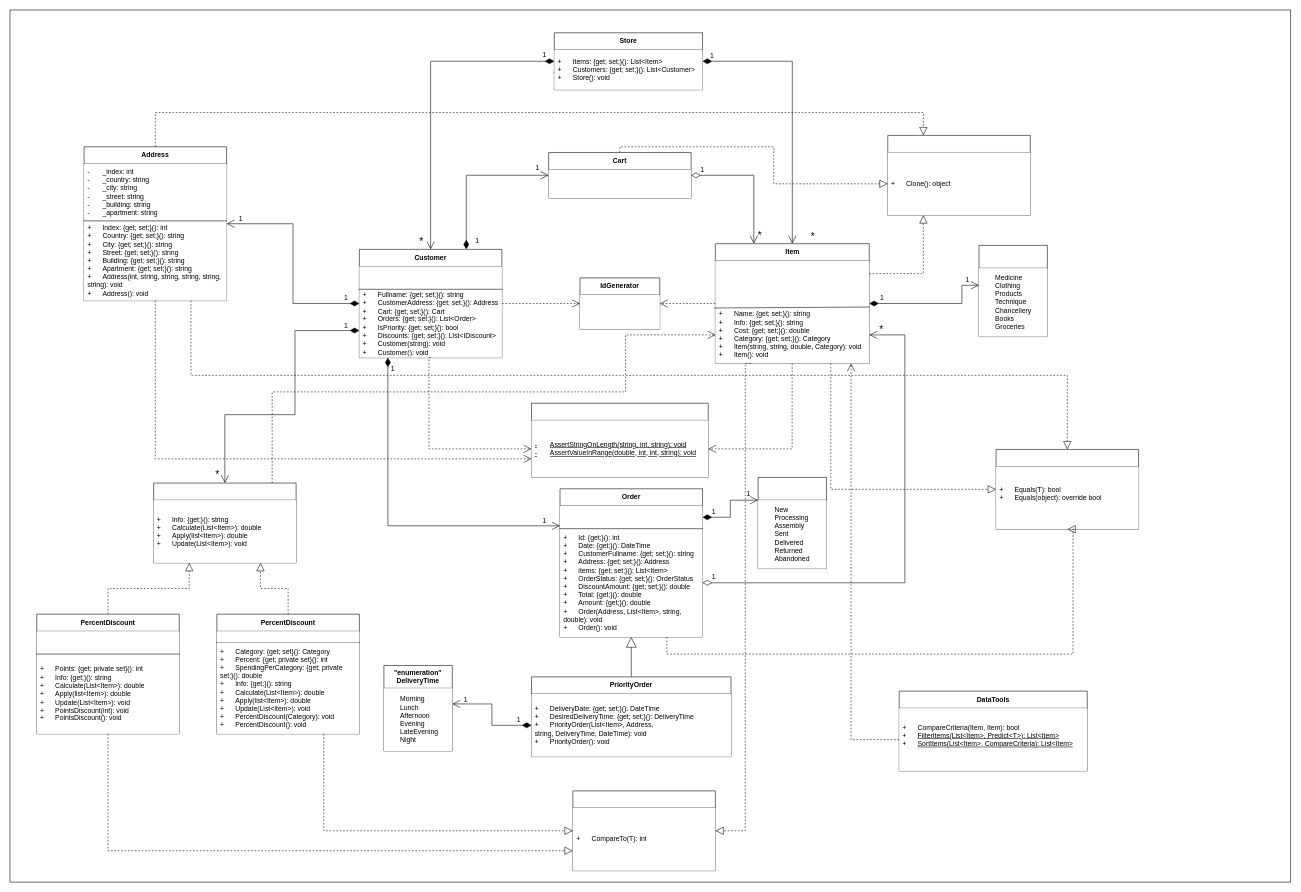
The diagram is 1301 pixels wide and 892 high, and some of its shapes have lost their labels. Here are the shapes that lost their labels. From the top down, the box of each, then its label:
(548, 169, 691, 198): + Items: {get; set;}(): List<Item> + Amount: {get;}(): double + Cart(): void
(887, 135, 1030, 215): "interface" ICloneable
(359, 266, 502, 289): - _id: readonly int - _fullname: string
(715, 260, 869, 306): - _id: readonly int - _name: string - _info: string - _cost: double
(978, 245, 1047, 337): "enumeration" Category
(580, 295, 659, 312): - _nextId: int
(580, 312, 659, 329): - GetNextId(): int
(531, 403, 708, 477): ValueGenerator
(996, 449, 1139, 529): "interface" IEquatable<T>
(153, 483, 296, 563): "interface" IDiscount
(560, 506, 702, 528): - _id: int - _data: DateTime
(758, 477, 826, 569): "enumeration" OrderStatus
(36, 631, 179, 654): - _points: int - _maxDiscountPercentage: const int
(217, 631, 359, 642): - _percent: int
(572, 790, 715, 871): "interface" IComparable<T>
